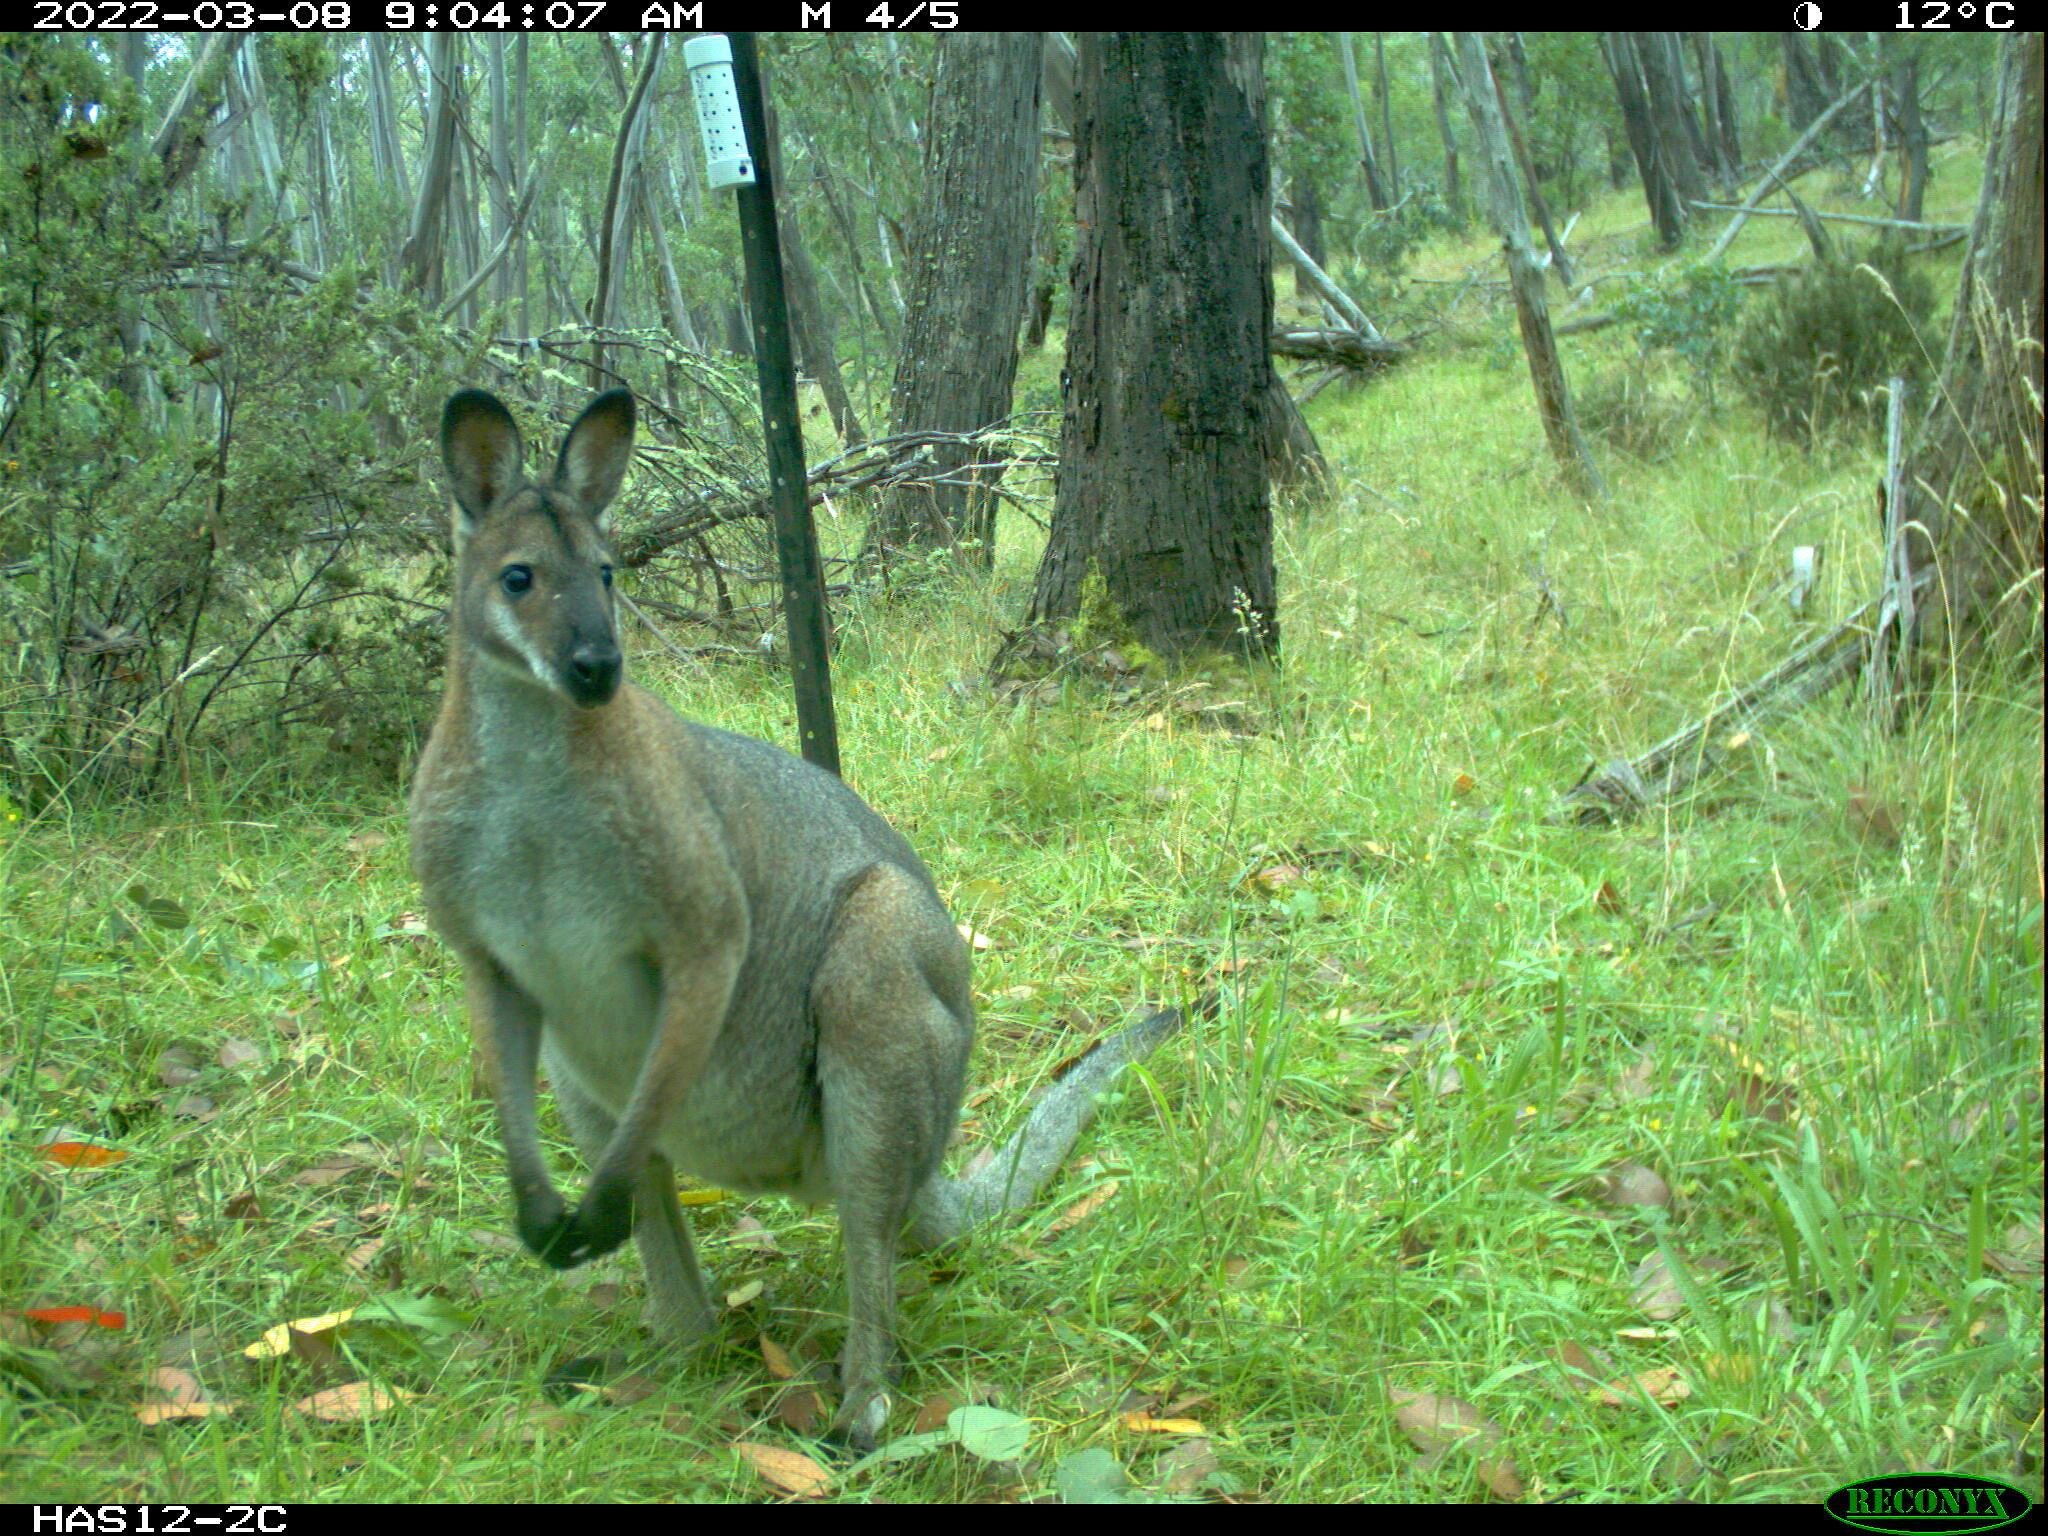Red-necked wallaby: (395, 382, 1227, 1491)
